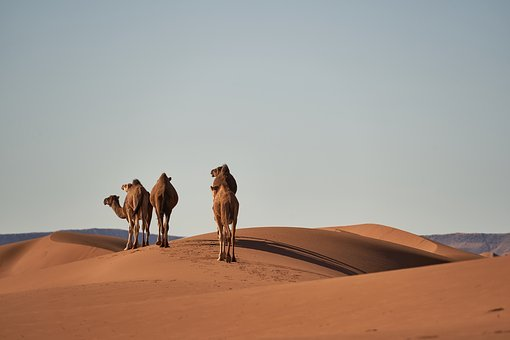desert: (6, 200, 510, 337)
sky: (4, 2, 510, 224)
